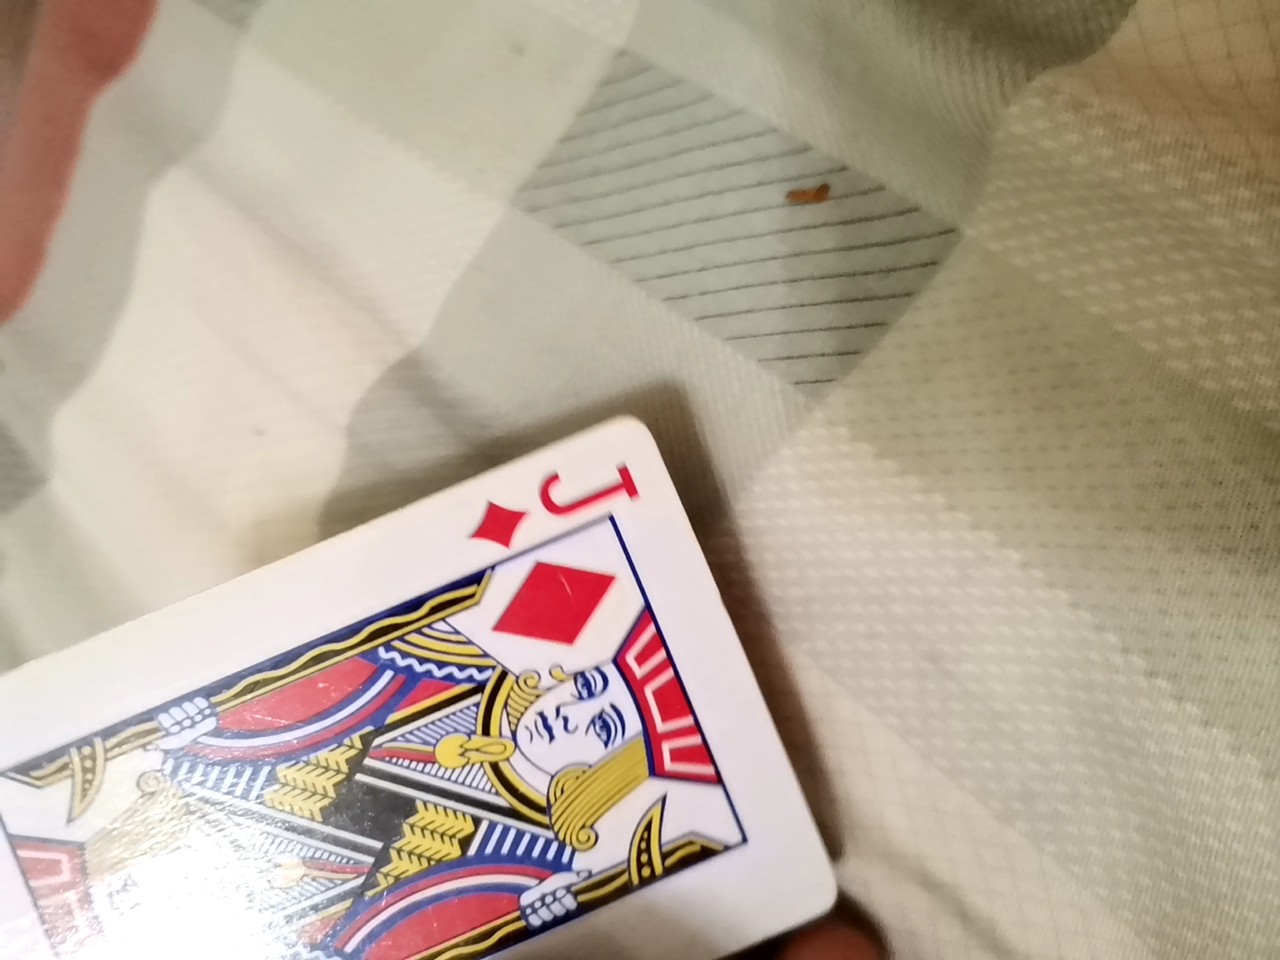fk j: (11, 413, 886, 952)
